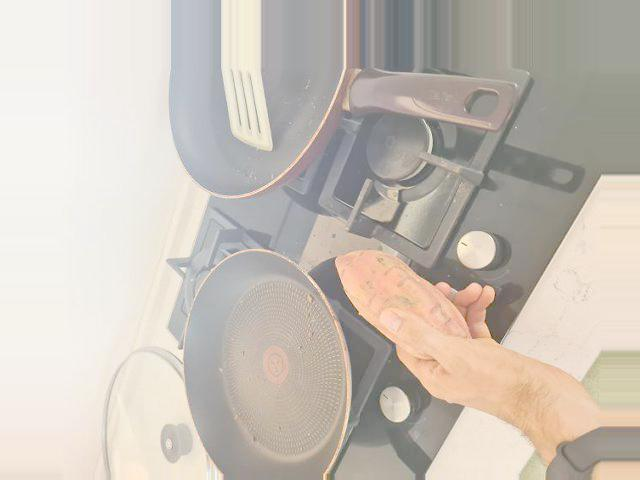sweet_potato: (335, 249, 472, 355)
